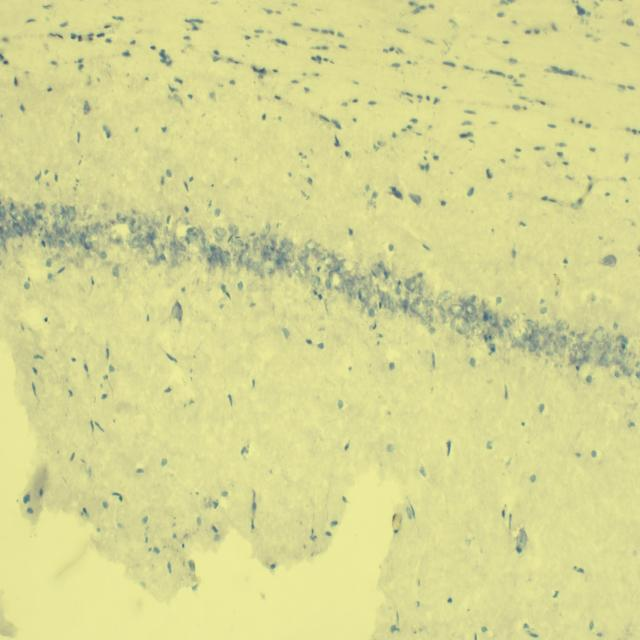neuron: (586, 341, 608, 366), (451, 316, 471, 334), (329, 270, 344, 292), (144, 243, 158, 266), (532, 325, 546, 348), (436, 291, 454, 306), (169, 239, 188, 253), (52, 218, 68, 234), (592, 328, 608, 343), (262, 259, 276, 276), (410, 303, 428, 316), (362, 273, 372, 296), (418, 281, 432, 297), (16, 215, 29, 232), (152, 239, 164, 257), (246, 261, 260, 276), (548, 351, 564, 364), (109, 231, 123, 245), (603, 348, 616, 363), (66, 205, 76, 222), (358, 286, 368, 303), (556, 319, 569, 332), (12, 222, 24, 236), (304, 238, 316, 252), (332, 247, 344, 261), (448, 304, 463, 315), (346, 279, 355, 297), (89, 231, 99, 247), (220, 250, 230, 266), (260, 220, 270, 236), (549, 339, 559, 355), (308, 275, 321, 287), (498, 329, 510, 342), (23, 208, 37, 219), (240, 250, 250, 265), (575, 345, 584, 361), (405, 278, 416, 291), (525, 319, 538, 330), (372, 264, 382, 278), (488, 312, 498, 326), (464, 304, 476, 315), (228, 223, 238, 236), (281, 251, 294, 261), (83, 234, 91, 250), (154, 210, 162, 226), (298, 265, 307, 279), (420, 316, 434, 325), (458, 289, 467, 303), (129, 237, 140, 248), (9, 208, 19, 220), (215, 227, 227, 237), (320, 256, 332, 266), (442, 298, 452, 310), (622, 366, 634, 376), (504, 339, 514, 351), (616, 352, 625, 365), (378, 290, 386, 304), (502, 318, 512, 328), (92, 240, 100, 252), (276, 245, 288, 253), (610, 335, 618, 347), (0, 205, 7, 218), (70, 236, 77, 249), (58, 239, 66, 250), (233, 240, 244, 248), (423, 299, 434, 307), (575, 334, 583, 345), (99, 251, 108, 260), (522, 338, 531, 347), (2, 224, 9, 235), (528, 344, 537, 352), (395, 286, 402, 296), (325, 278, 331, 289), (6, 229, 12, 239), (548, 332, 554, 342), (540, 307, 547, 315), (184, 236, 190, 245), (635, 370, 640, 380), (334, 265, 341, 272), (186, 228, 194, 234), (626, 359, 634, 365), (570, 330, 575, 337)
